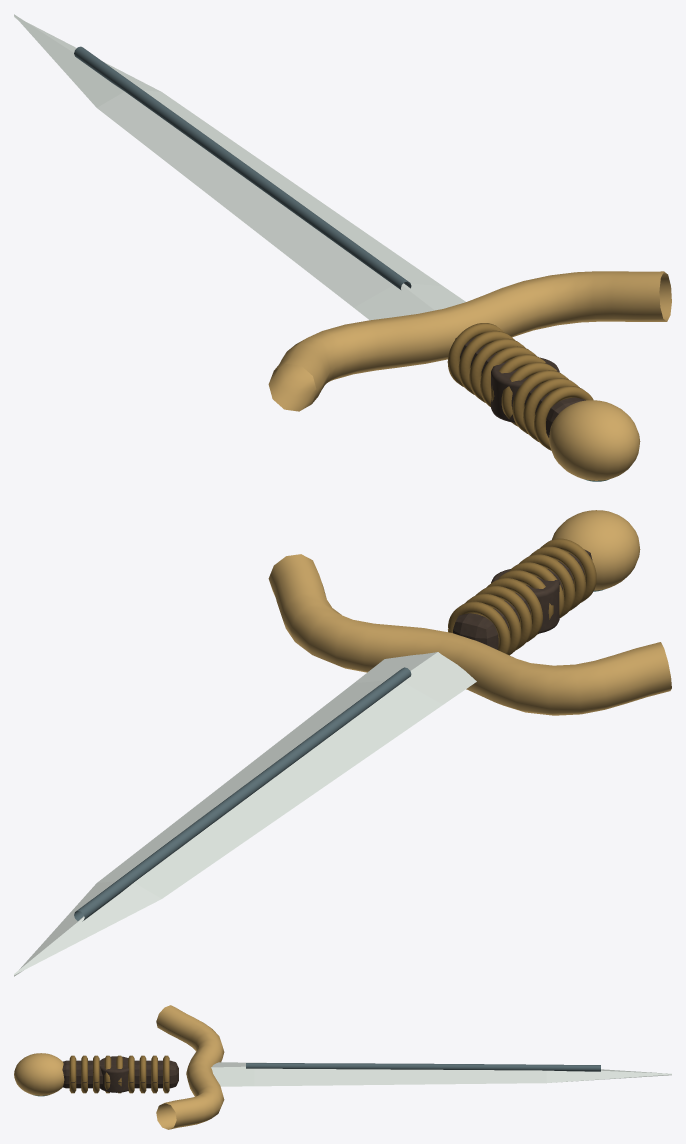
Rendered from dawn_sword.glb.
3 views of the same model, one above another, from view 1: azimuth 30°, elevation 25°; view 2: azimuth 150°, elevation 25°; view 3: azimuth 270°, elevation 25° (orthographic). The views are drawn at different scales.
Visible parts, largest first — view 1: Sword_gold, Sword_steel_edge, Sword_gold_shadow, Sword_steel_dark, Sword_leather; view 2: Sword_gold, Sword_steel_edge, Sword_gold_shadow, Sword_steel_dark, Sword_leather; view 3: Sword_steel_edge, Sword_gold, Sword_steel_dark, Sword_gold_shadow, Sword_leather.
Boxes of the visible parts, left/top/right/bottom form: Sword_gold: left=268, top=271, right=671, bottom=480; Sword_steel_edge: left=14, top=14, right=465, bottom=320; Sword_gold_shadow: left=447, top=323, right=593, bottom=450; Sword_steel_dark: left=74, top=46, right=411, bottom=289; Sword_leather: left=455, top=337, right=585, bottom=437; Sword_gold: left=268, top=510, right=671, bottom=715; Sword_steel_edge: left=14, top=652, right=476, bottom=976; Sword_gold_shadow: left=448, top=538, right=596, bottom=655; Sword_steel_dark: left=74, top=667, right=411, bottom=921; Sword_leather: left=453, top=549, right=592, bottom=649; Sword_steel_edge: left=211, top=1062, right=671, bottom=1086; Sword_gold: left=14, top=1005, right=224, bottom=1129; Sword_steel_dark: left=246, top=1063, right=600, bottom=1071; Sword_gold_shadow: left=69, top=1055, right=169, bottom=1093; Sword_leather: left=62, top=1056, right=178, bottom=1092.
Size of the model in its own units: 0.6044 by 0.1026 by 1.58.
Materials: 6 (1 with a texture image).
